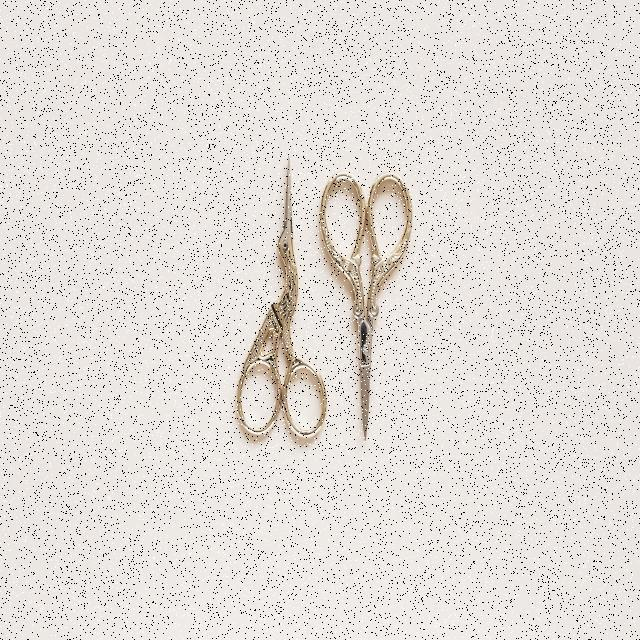scissors: (233, 151, 330, 449), (317, 165, 415, 452)
